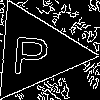P: (10, 27, 51, 76)
